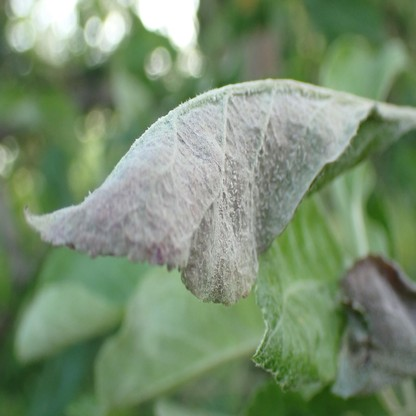powdery_mildew: (27, 75, 416, 304), (251, 205, 342, 402)
